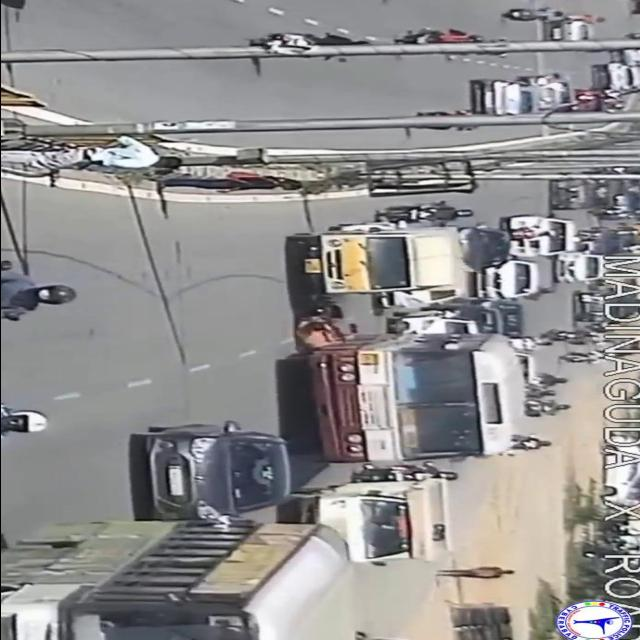accident: (278, 224, 534, 471)
non_accident: (0, 412, 462, 640), (474, 175, 640, 302), (462, 50, 640, 118)
